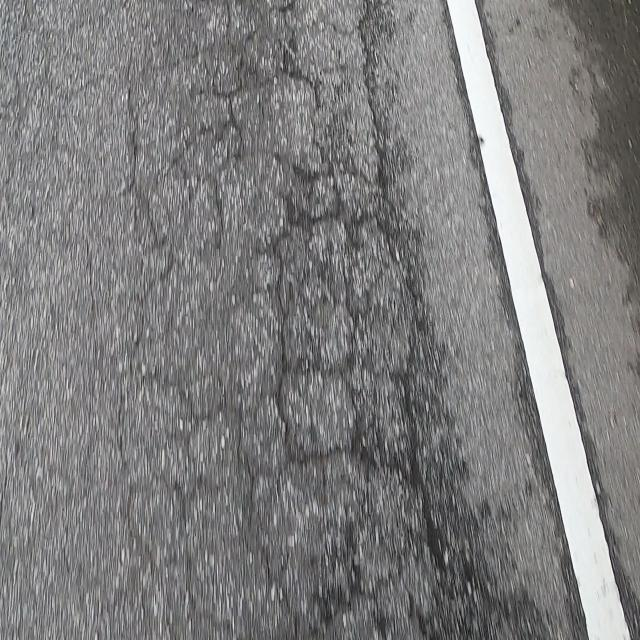Retak-Buaya: (113, 0, 461, 640)
